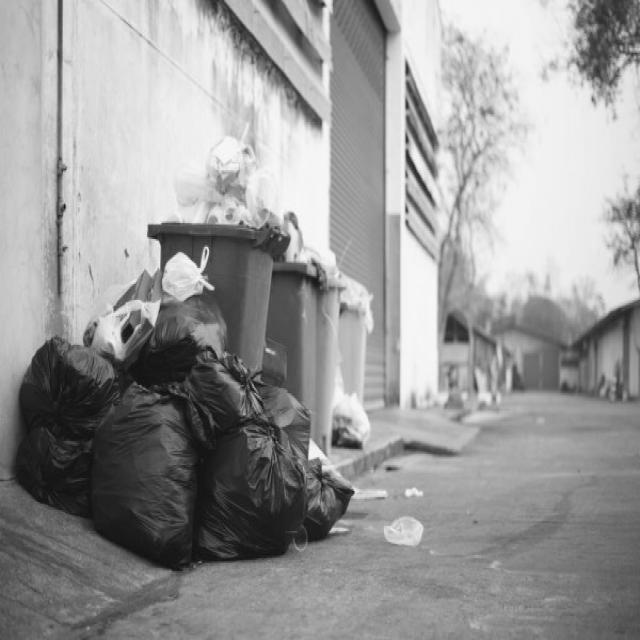high trash: (16, 250, 351, 568)
